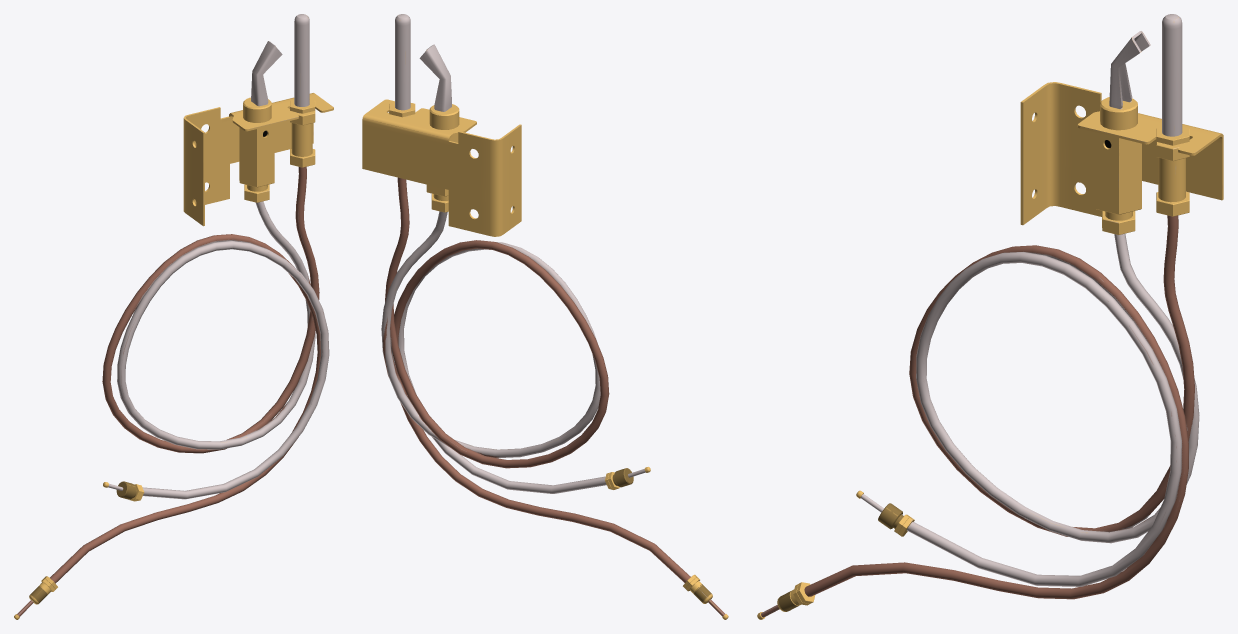
The model's file is WH_part_Thermocouple.glb.
3 renders of one model, left to right at view 1: azimuth 30°, elevation 25°; view 2: azimuth 150°, elevation 25°; view 3: azimuth 330°, elevation 25°, orthographic. The views are drawn at different scales.
Visible parts, largest first — view 1: Thermocouple_Baked; view 2: Thermocouple_Baked; view 3: Thermocouple_Baked.
Part boxes in pixels (<box>): Thermocouple_Baked: <box>14,14,333,619</box>; Thermocouple_Baked: <box>362,14,728,619</box>; Thermocouple_Baked: <box>757,14,1223,619</box>.
Size of the model in its own units: 1.76 by 2.69 by 0.3534.
1 material, 1 textured.
